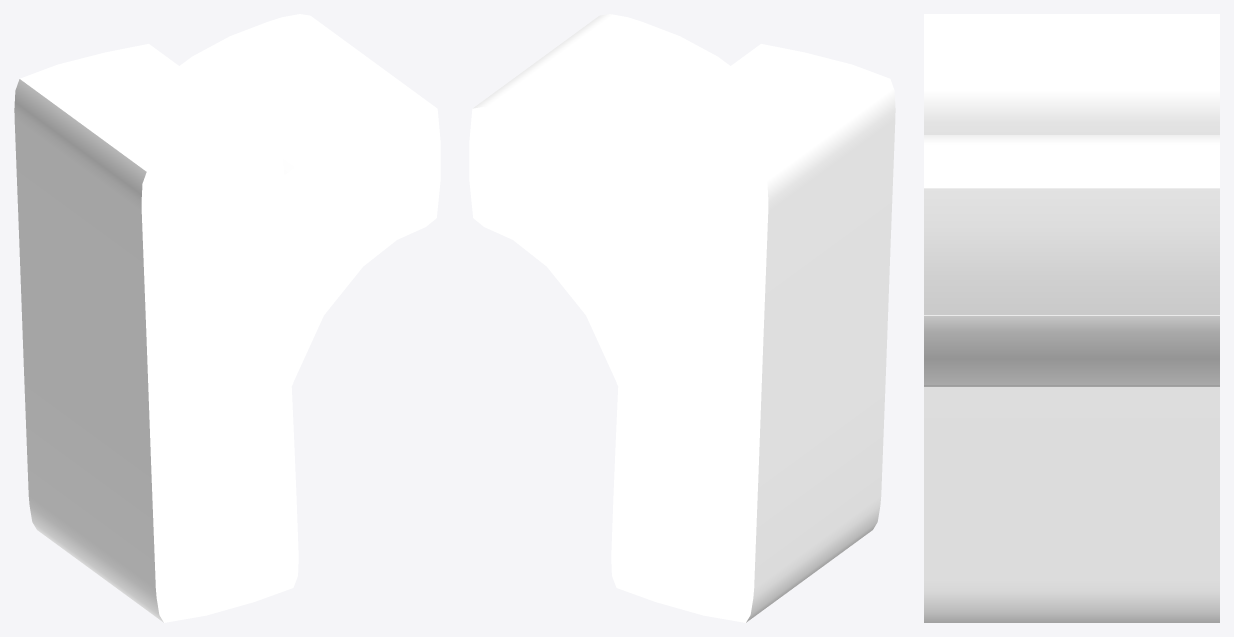
Rendered from R_Zyzol_White.glb.
3 views of the same model, side by side, from view 1: azimuth 30°, elevation 25°; view 2: azimuth 150°, elevation 25°; view 3: azimuth 270°, elevation 25° (orthographic). The views are drawn at different scales.
Visible parts, largest first — view 1: r_Zyzol_White; view 2: r_Zyzol_White; view 3: r_Zyzol_White.
Boxes of the visible parts, x1,y1,x2,y2 form: r_Zyzol_White: (14, 14, 440, 622); r_Zyzol_White: (469, 14, 895, 622); r_Zyzol_White: (924, 14, 1219, 622).
Size of what is drawn, in the model's own units: 0.0611 by 0.0906 by 0.045.
2 materials, 2 textured.
